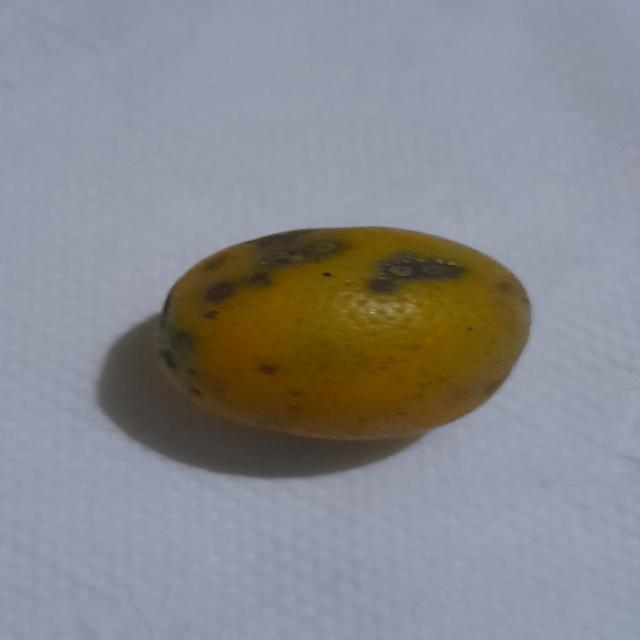black spot: (152, 222, 533, 445)
